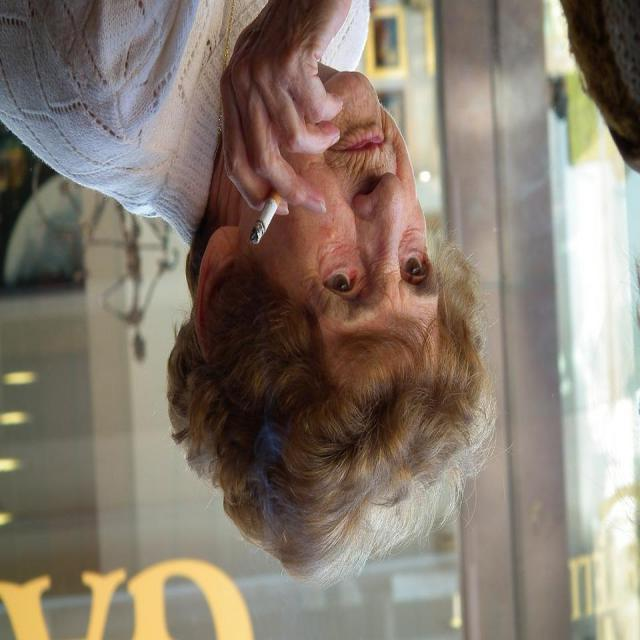cigarette: (240, 178, 278, 271)
